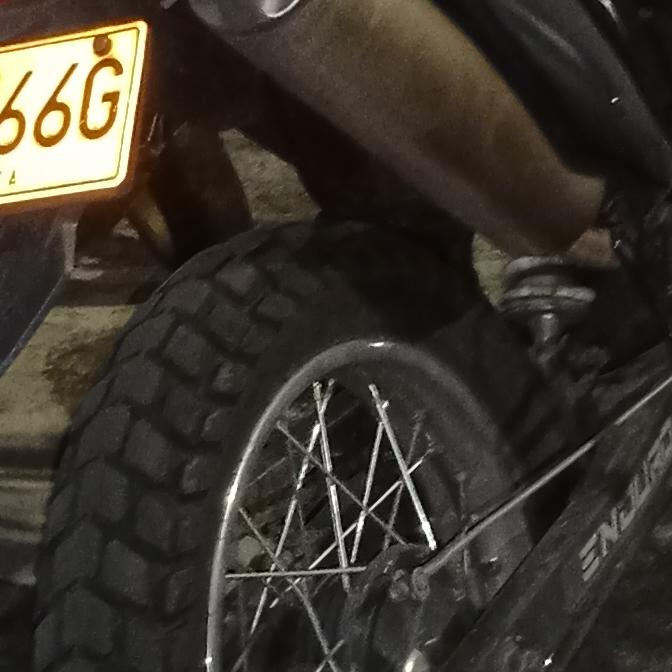plates: (0, 14, 152, 207)
